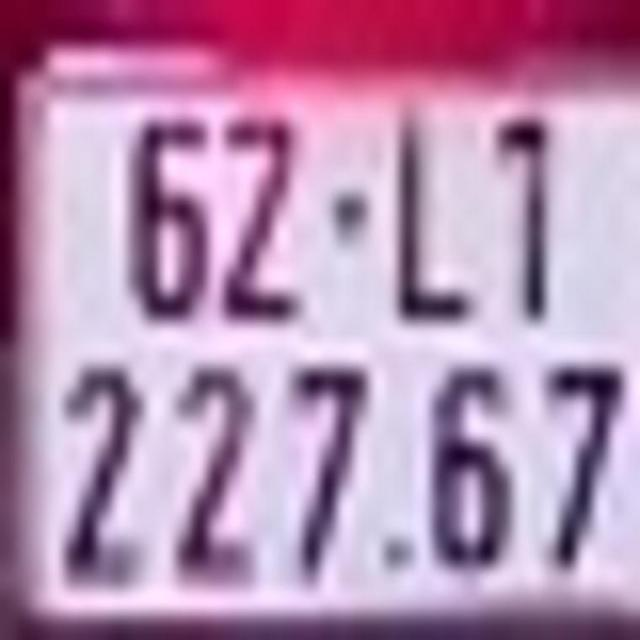1: (495, 112, 569, 323)
2: (163, 353, 256, 585), (58, 361, 148, 593), (224, 114, 300, 320)
6: (418, 352, 511, 577), (126, 109, 216, 322), (538, 354, 623, 572)
7: (291, 351, 372, 578)
L: (391, 114, 474, 320)
